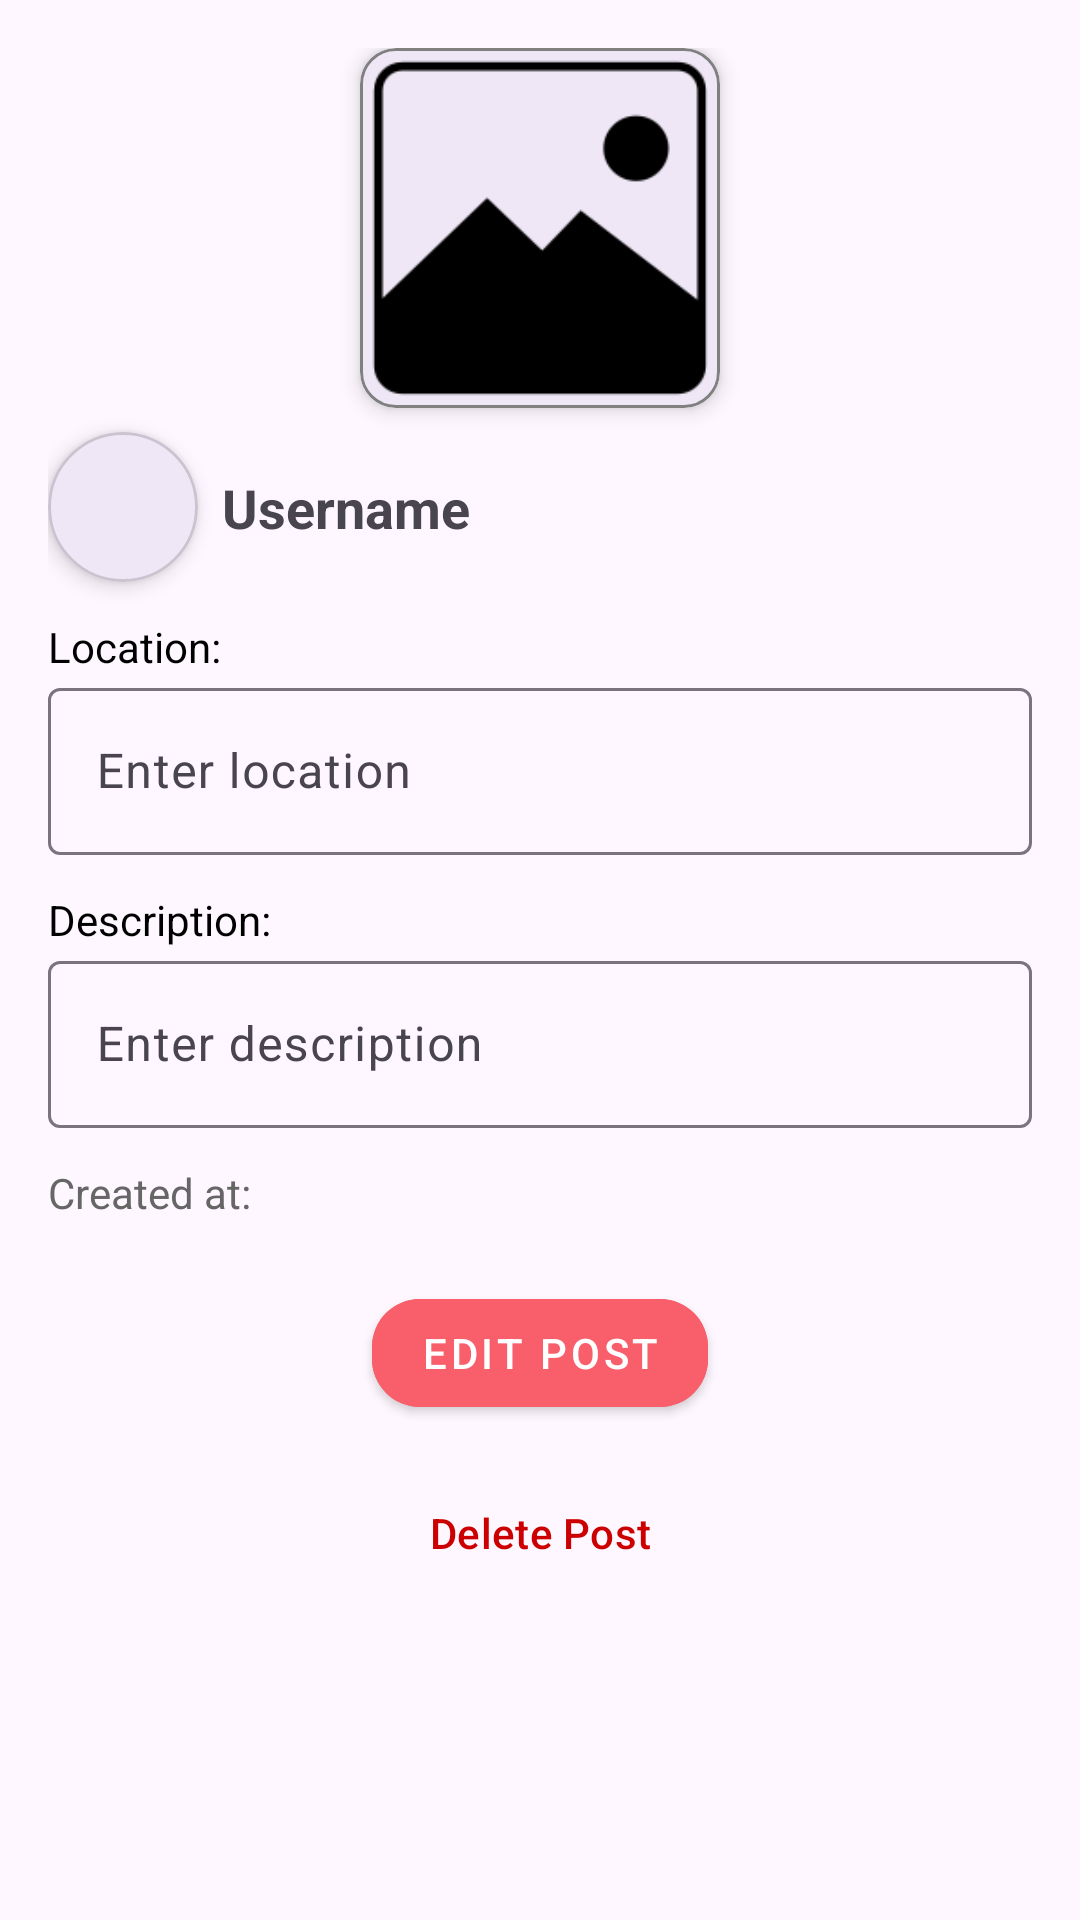

Icon click points for this 1080×1920 phone screenshot, format [x,y]:
Post Image: [540,228]
